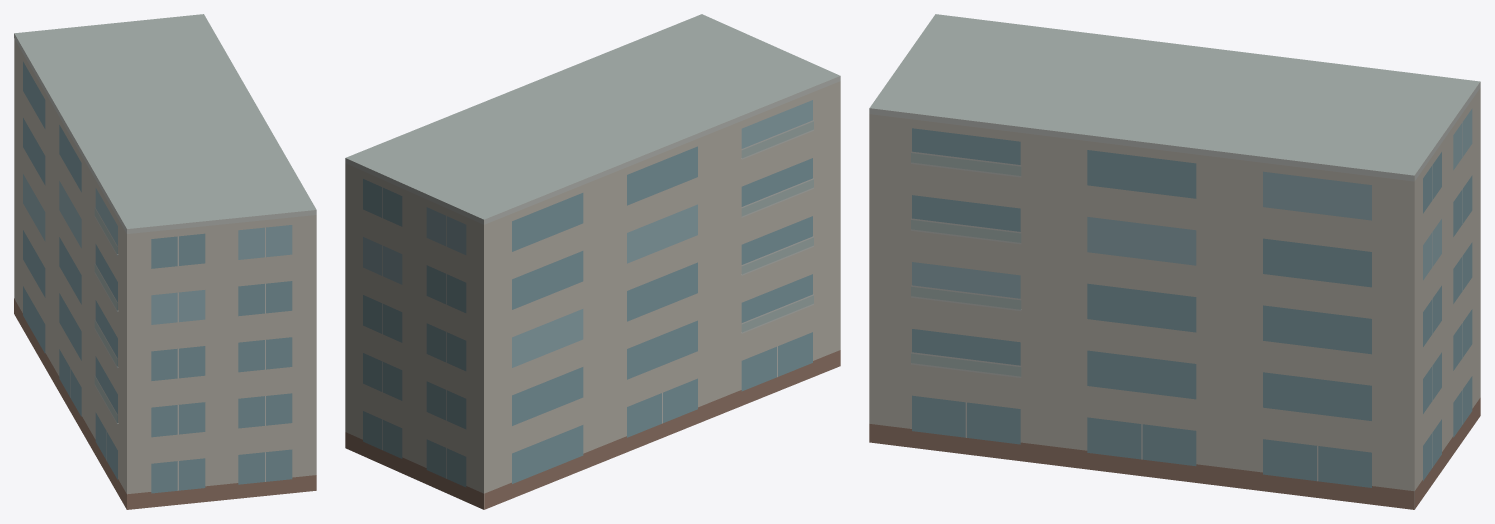
The model's file is survey-upis-32869188.glb.
The picture shows the model from 3 angles, left to right: view 1: azimuth 30°, elevation 25°; view 2: azimuth 150°, elevation 25°; view 3: azimuth 270°, elevation 25°; orthographic projection. The views are drawn at different scales.
Parts seen in each view (by area): view 1: survey-upis-32869188.tmp; view 2: survey-upis-32869188.tmp; view 3: survey-upis-32869188.tmp.
Part boxes in pixels (x1=…): survey-upis-32869188.tmp: x1=14, y1=14, x2=316, y2=509; survey-upis-32869188.tmp: x1=345, y1=14, x2=840, y2=509; survey-upis-32869188.tmp: x1=869, y1=14, x2=1480, y2=509.
Size of the model in its own units: 14.16 by 13.65 by 22.62.
